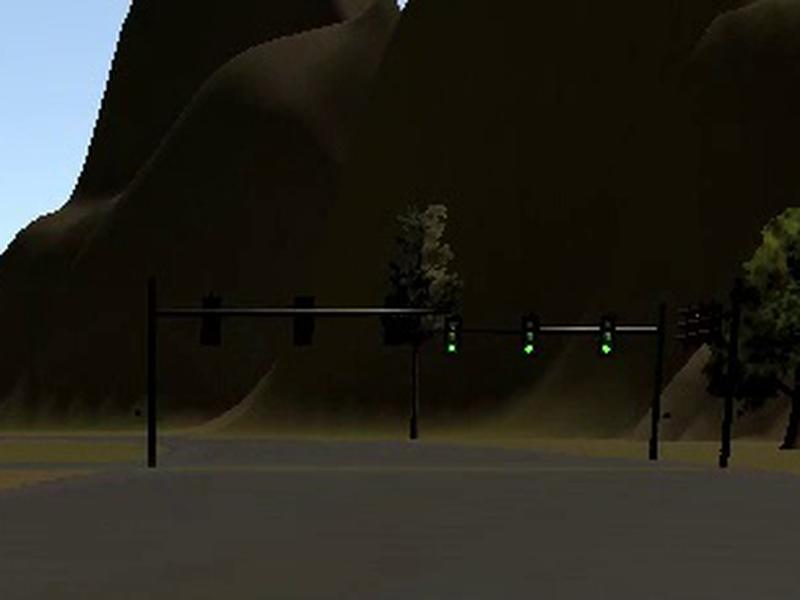Green: (599, 314, 617, 357), (522, 317, 538, 355), (445, 316, 460, 356)
